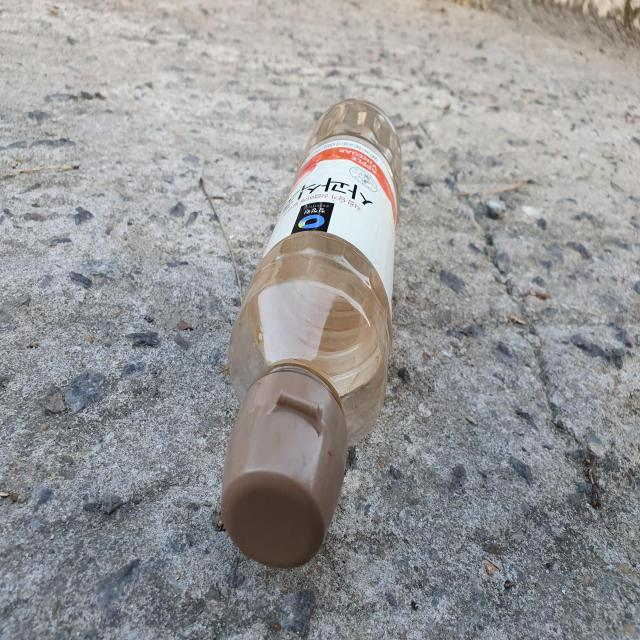plastic: (221, 98, 402, 568)
